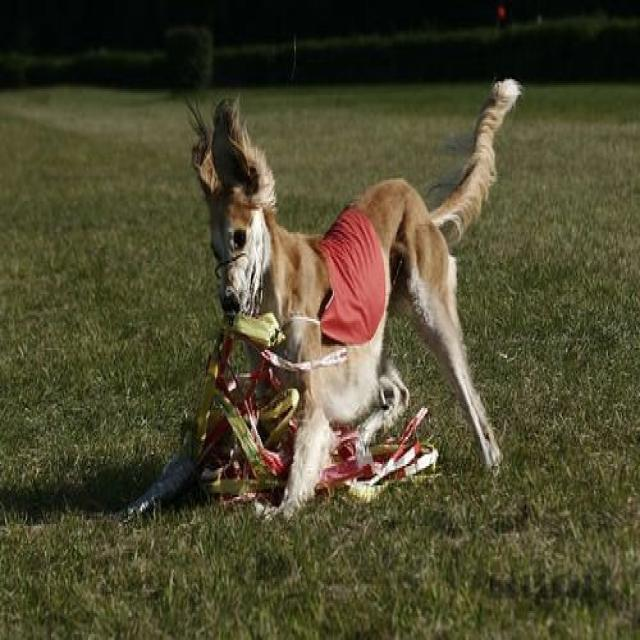saluki: (183, 76, 520, 518)
